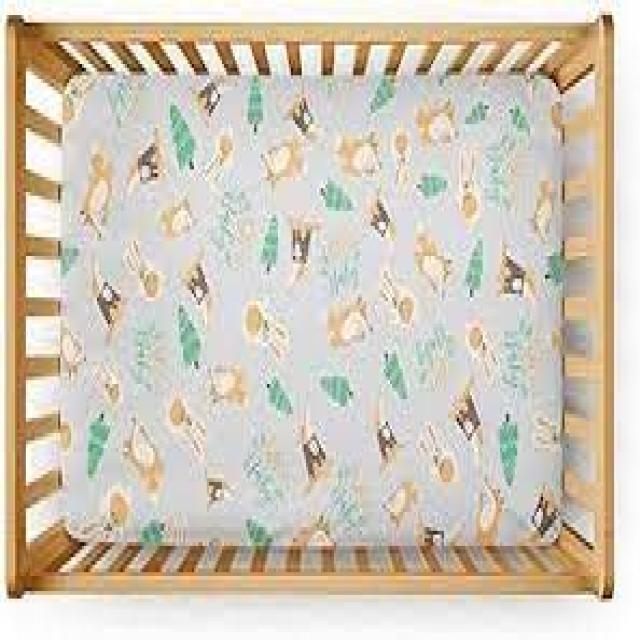crib: (4, 11, 614, 599)
